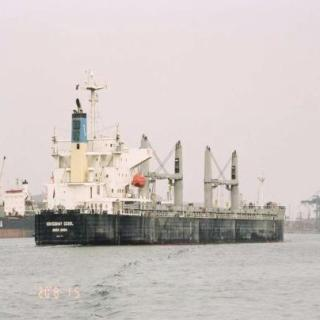Bulk Carrier: (21, 78, 291, 240)
